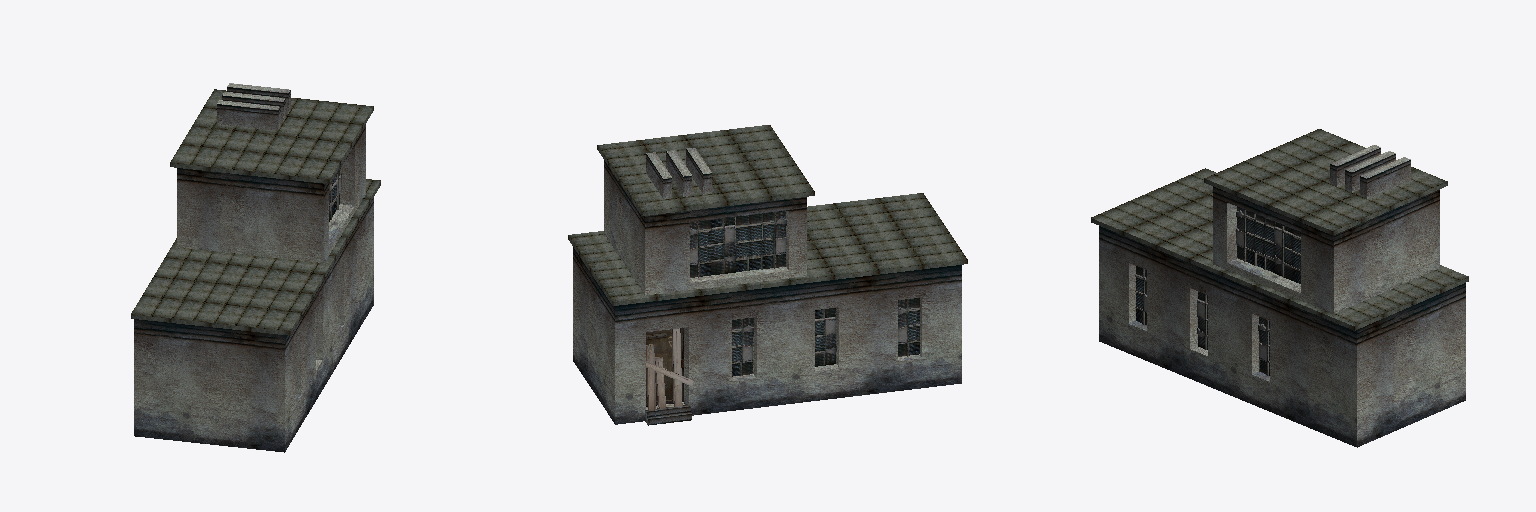
3 renders of one model, left to right at view 1: azimuth 30°, elevation 25°; view 2: azimuth 150°, elevation 25°; view 3: azimuth 270°, elevation 25°, orthographic.
Bounding box in the file's own units: 245 × 167 × 248.
Materials: 5 (5 with a texture image).